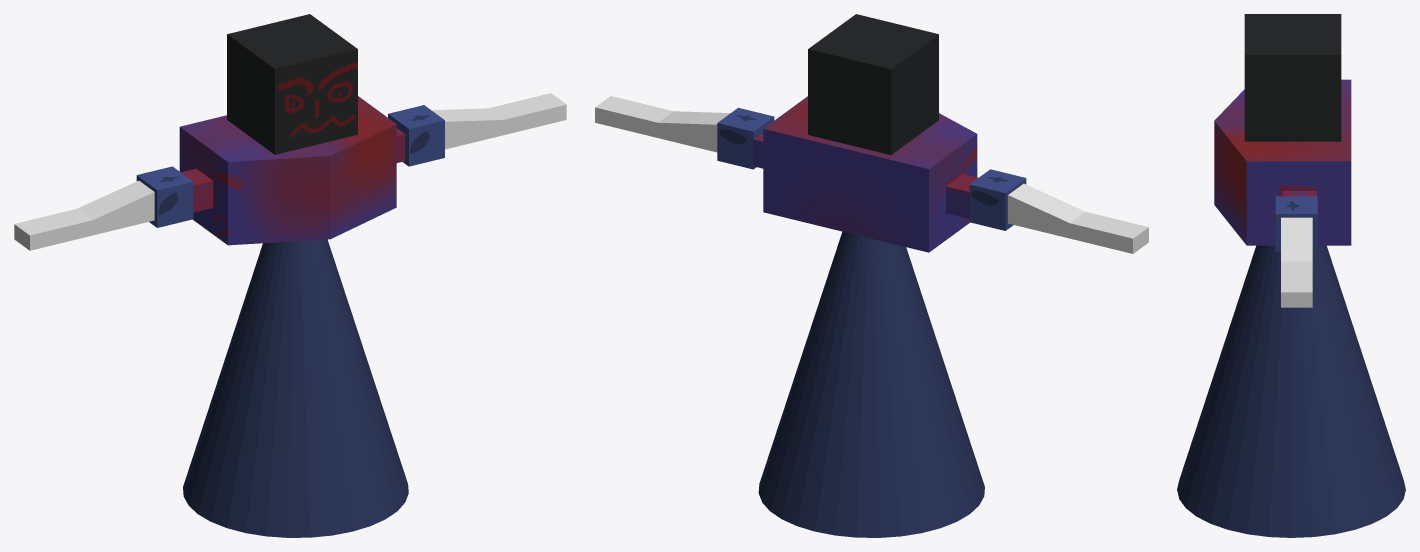
Rendered from hero1.glb.
3 renders of one model, left to right at view 1: azimuth 30°, elevation 25°; view 2: azimuth 150°, elevation 25°; view 3: azimuth 270°, elevation 25°, orthographic.
Visible parts, largest first — view 1: Foots, Body, Head, RightHand, LeftHand, BoneLeft, BoneRight; view 2: Foots, Body, Head, RightHand, LeftHand, BoneRight, BoneLeft; view 3: Foots, Body, Head, LeftHand, BoneLeft.
Boxes of the visible parts, <box> form: Foots: <box>183,239,408,537</box>; Body: <box>179,96,405,245</box>; Head: <box>227,14,357,154</box>; RightHand: <box>14,180,154,250</box>; LeftHand: <box>432,93,566,149</box>; BoneLeft: <box>388,105,444,166</box>; BoneRight: <box>136,166,193,227</box>; Foots: <box>758,231,984,537</box>; Body: <box>753,96,978,252</box>; Head: <box>808,14,938,154</box>; RightHand: <box>1008,183,1148,253</box>; LeftHand: <box>595,96,730,152</box>; BoneRight: <box>969,169,1026,230</box>; BoneLeft: <box>717,107,774,169</box>; Foots: <box>1177,245,1405,537</box>; Body: <box>1214,79,1351,245</box>; Head: <box>1244,14,1341,141</box>; LeftHand: <box>1281,217,1312,307</box>; BoneLeft: <box>1275,196,1317,251</box>.
Size of the model in its own units: 5.48 by 4.37 by 2.
Materials: 4 (4 with a texture image).
